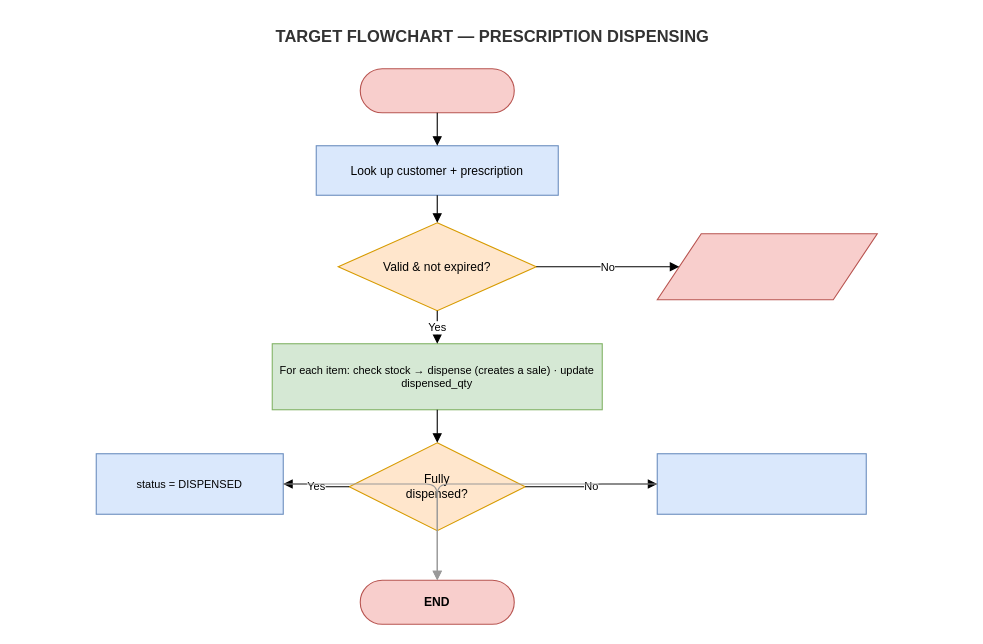
Image size: 983x644. Some labels were removed from this diagram. The shapes that lost their labels are listed below. From the top down, each one's centre as x and y in pixels, then its label:
At point 436,90: "START".
At point 766,266: "Reject — invalid / expired".
At point 761,483: "status = PARTIALLY_DISPENSED".
